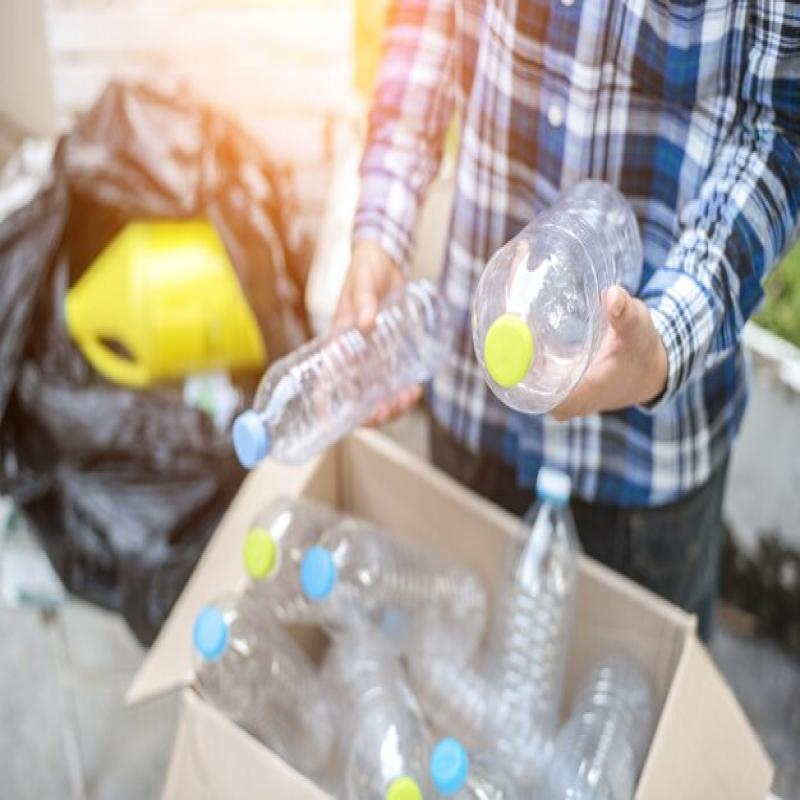botella: (230, 264, 458, 468), (475, 173, 648, 425), (290, 513, 492, 653), (191, 594, 336, 781), (411, 625, 556, 779), (528, 649, 656, 800), (504, 467, 579, 714), (328, 616, 429, 795), (414, 702, 504, 800), (243, 496, 312, 598)
